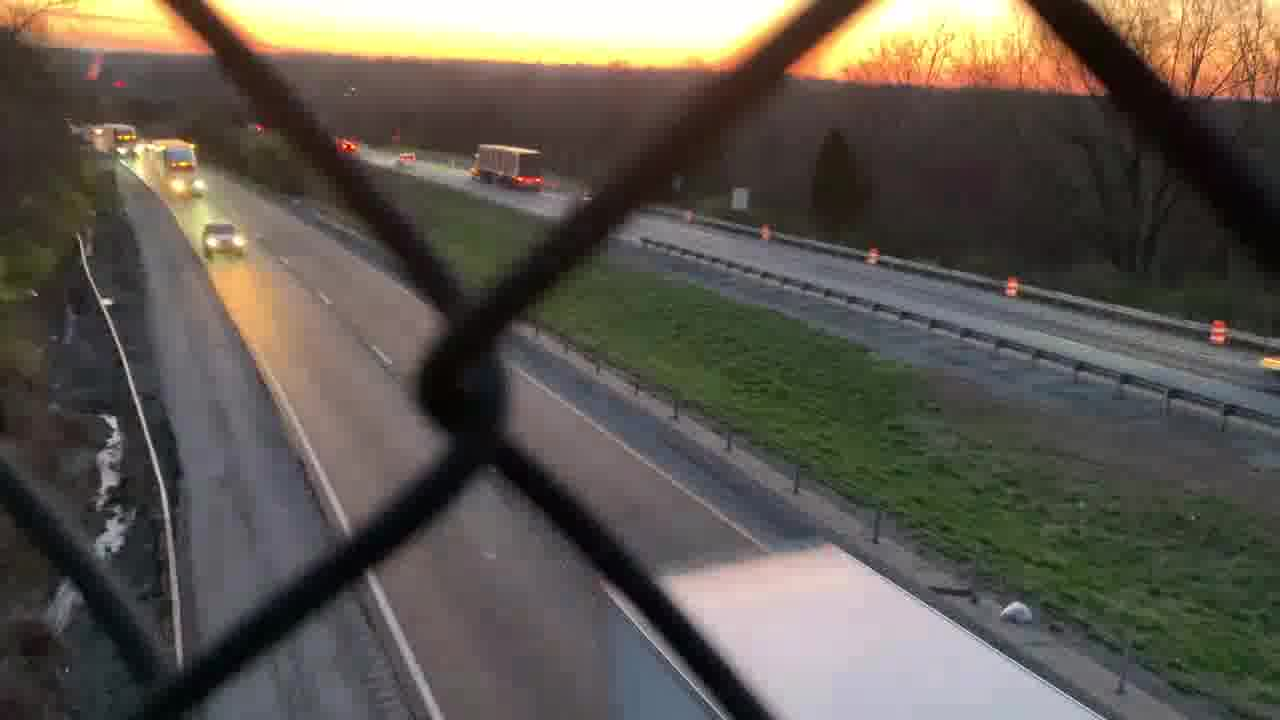heavyTruck: (467, 140, 544, 192), (142, 143, 209, 202)
